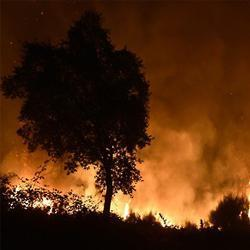fire: (30, 194, 50, 211), (112, 198, 130, 216)
